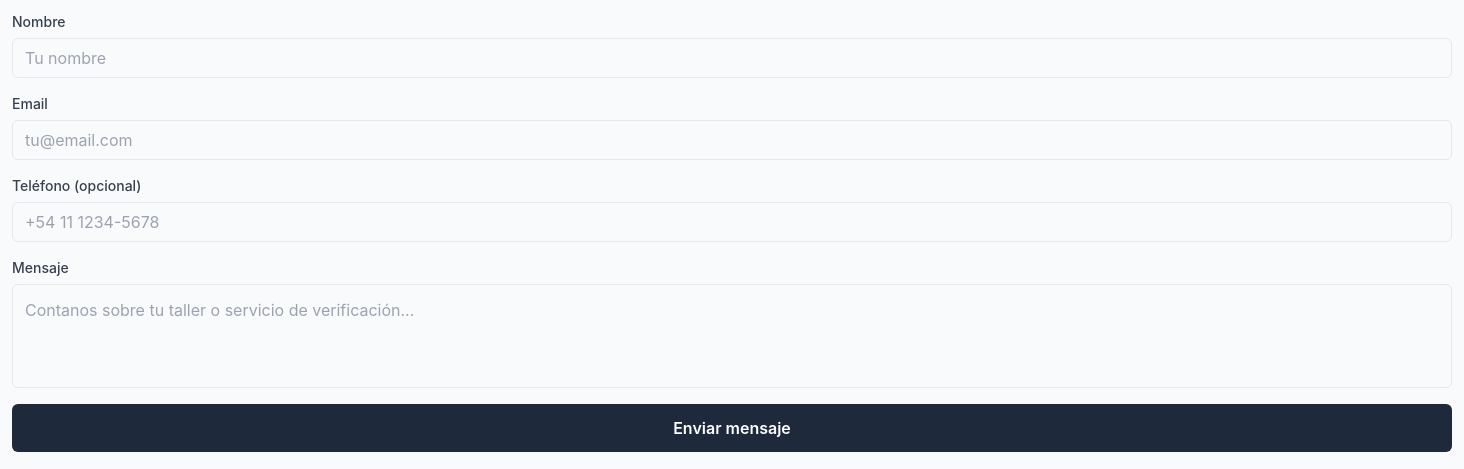
Test case: ContactForm › shows success state after submission
Type "Juan Pérez" into the field labelled "Nombre".
click(732, 58); type("Juan Pérez")  # box [12,38,1452,78]
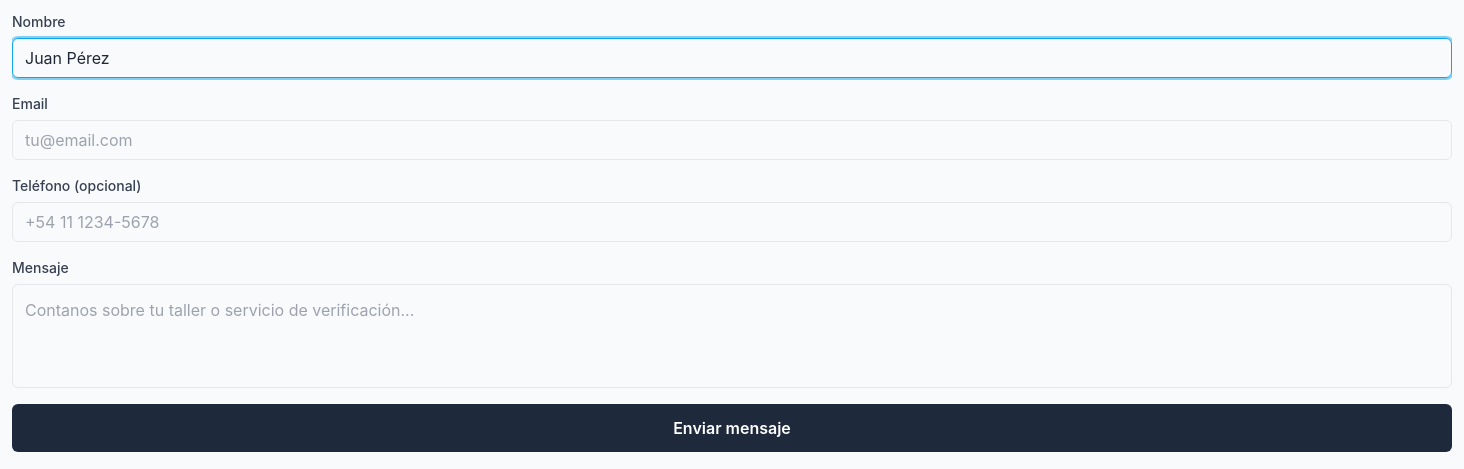
Type "juan@test.com" into the field labelled "Email".
click(732, 140); type("juan@test.com")  # box [12,120,1452,160]
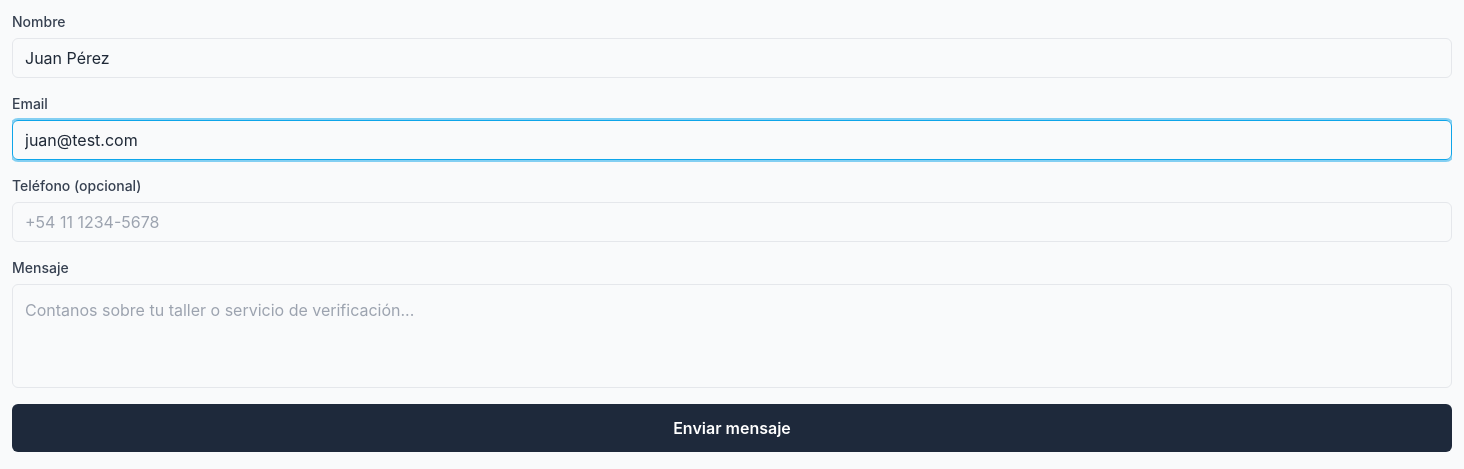
Type "Tengo un taller de verificaciones." into the text box labelled "Mensaje".
click(732, 336); type("Tengo un taller de verificaciones.")  # box [12,284,1452,388]
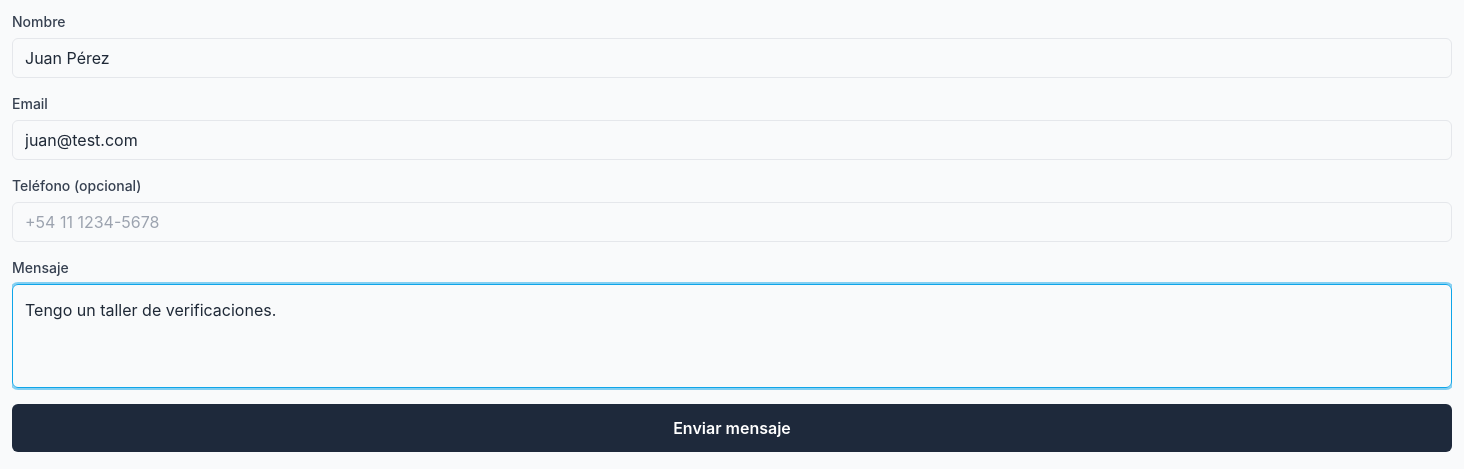
Click the button "Enviar mensaje".
click(732, 428)  # box [12,404,1452,452]
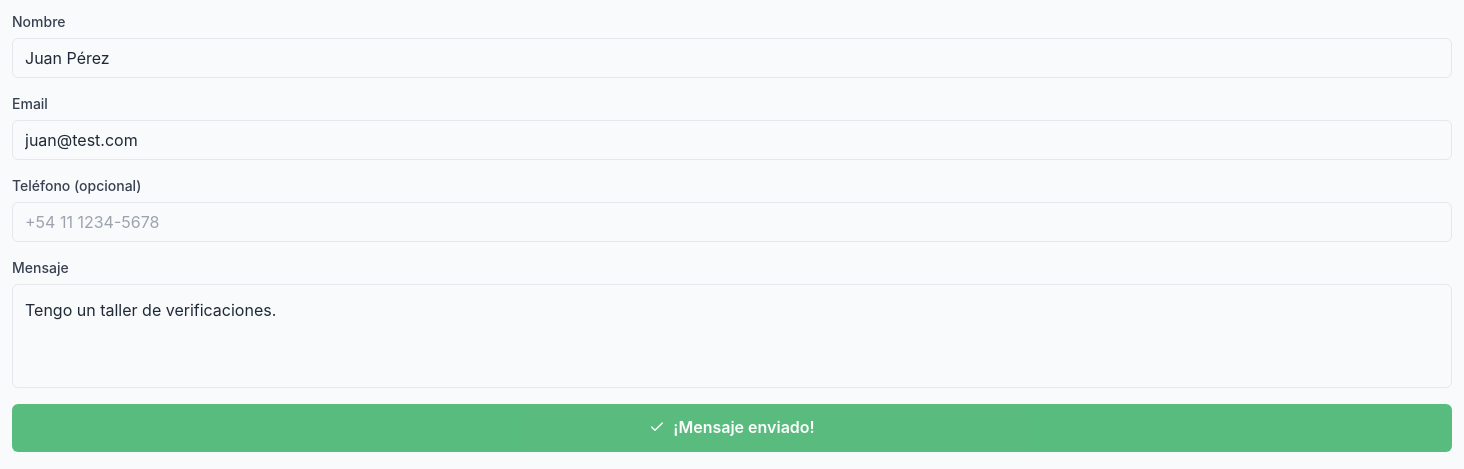
Expected: the text "¡Mensaje enviado!" is shown, [649,415,815,439]
